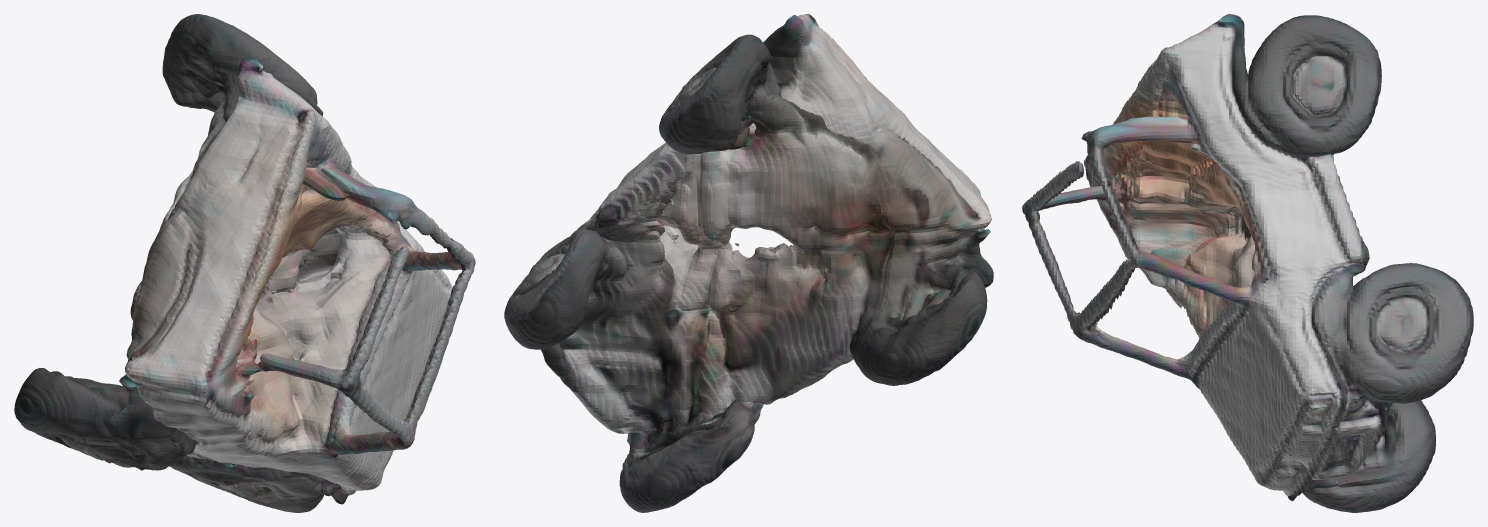
Rendered from triposr_moon_buggy_b.glb.
The picture shows the model from 3 angles, left to right: view 1: azimuth 30°, elevation 25°; view 2: azimuth 150°, elevation 25°; view 3: azimuth 270°, elevation 25°; orthographic projection. The views are drawn at different scales.
Parts seen in each view (by area): view 1: geometry_0; view 2: geometry_0; view 3: geometry_0.
Part boxes in pixels (x1,y1,x2,y2): geometry_0: [14, 14, 475, 512]; geometry_0: [504, 14, 993, 512]; geometry_0: [1022, 14, 1473, 512].
Size of the model in its own units: 0.9925 by 1.08 by 0.9671.
